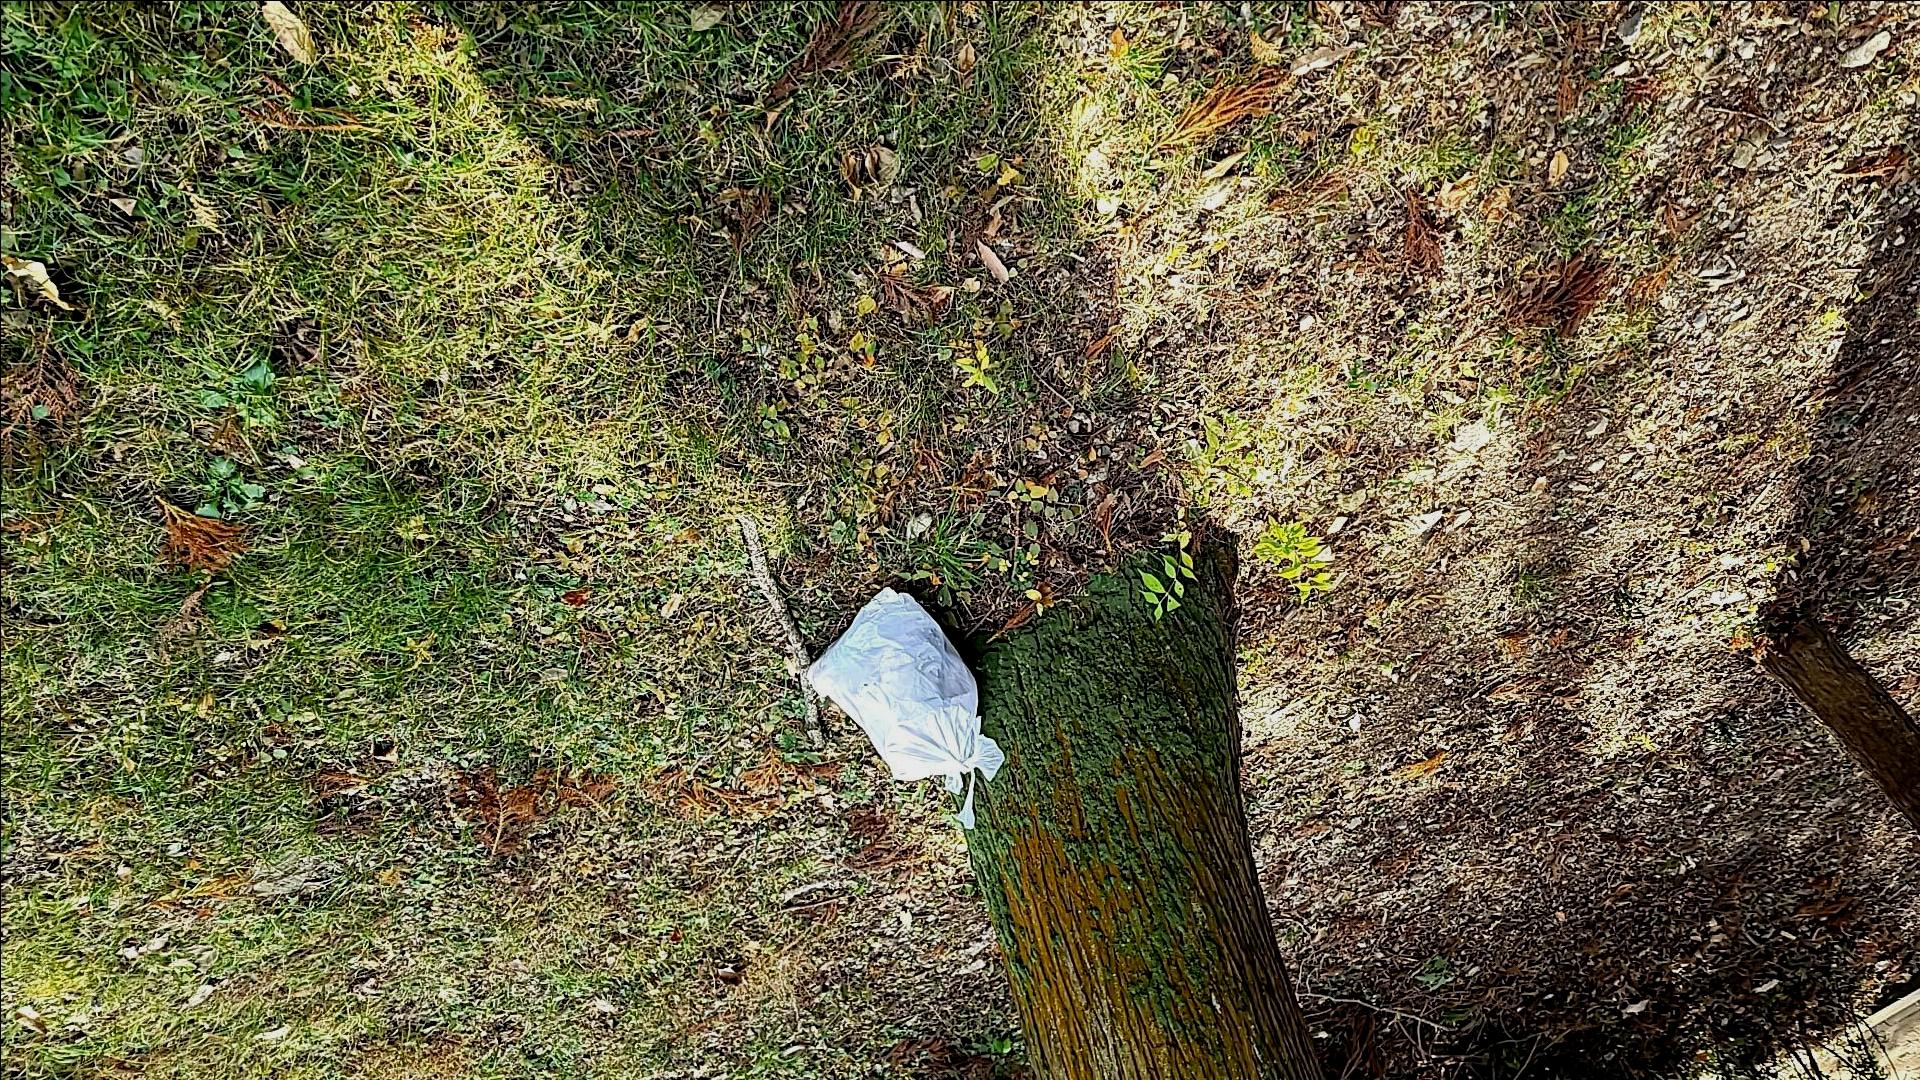white_bag: (793, 571, 1017, 828)
